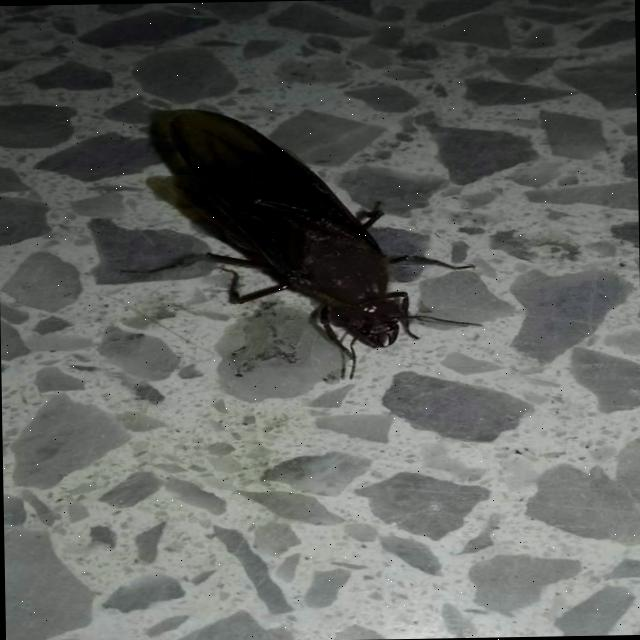Alive-Female-Alate: (116, 103, 483, 383)
